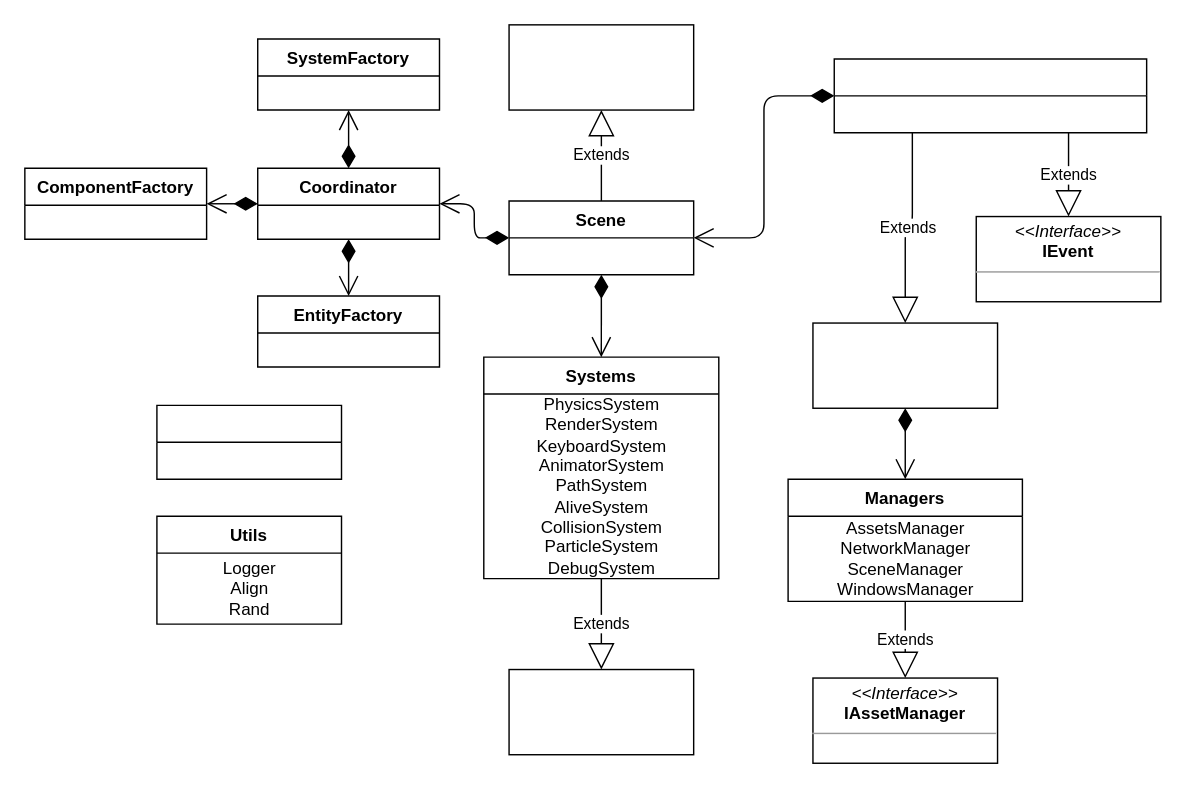
Some shapes in this 1186 by 788 pixel diagram are drawn without their labels. Each missing label, with the centre of its shape:
"<<Interface>> IGame" belongs at (905,365).
"<<Interface>> IScene" belongs at (601,66).
"<<Interface>> ISystem" belongs at (601,711).
"Client R-Type" belongs at (990,95).
"Maths" belongs at (248,441).
